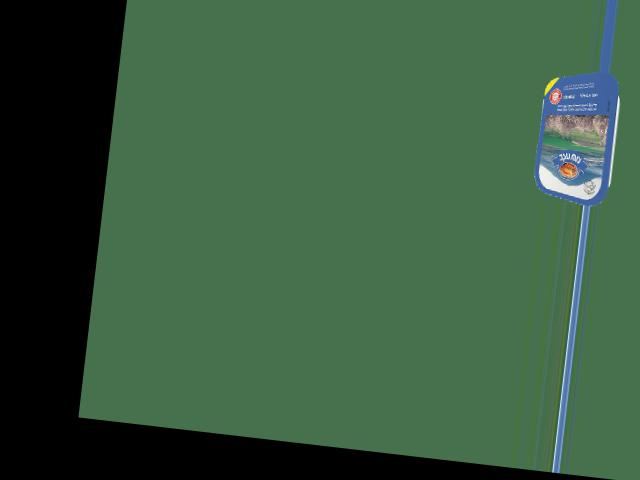cheese: (528, 79, 630, 199)
